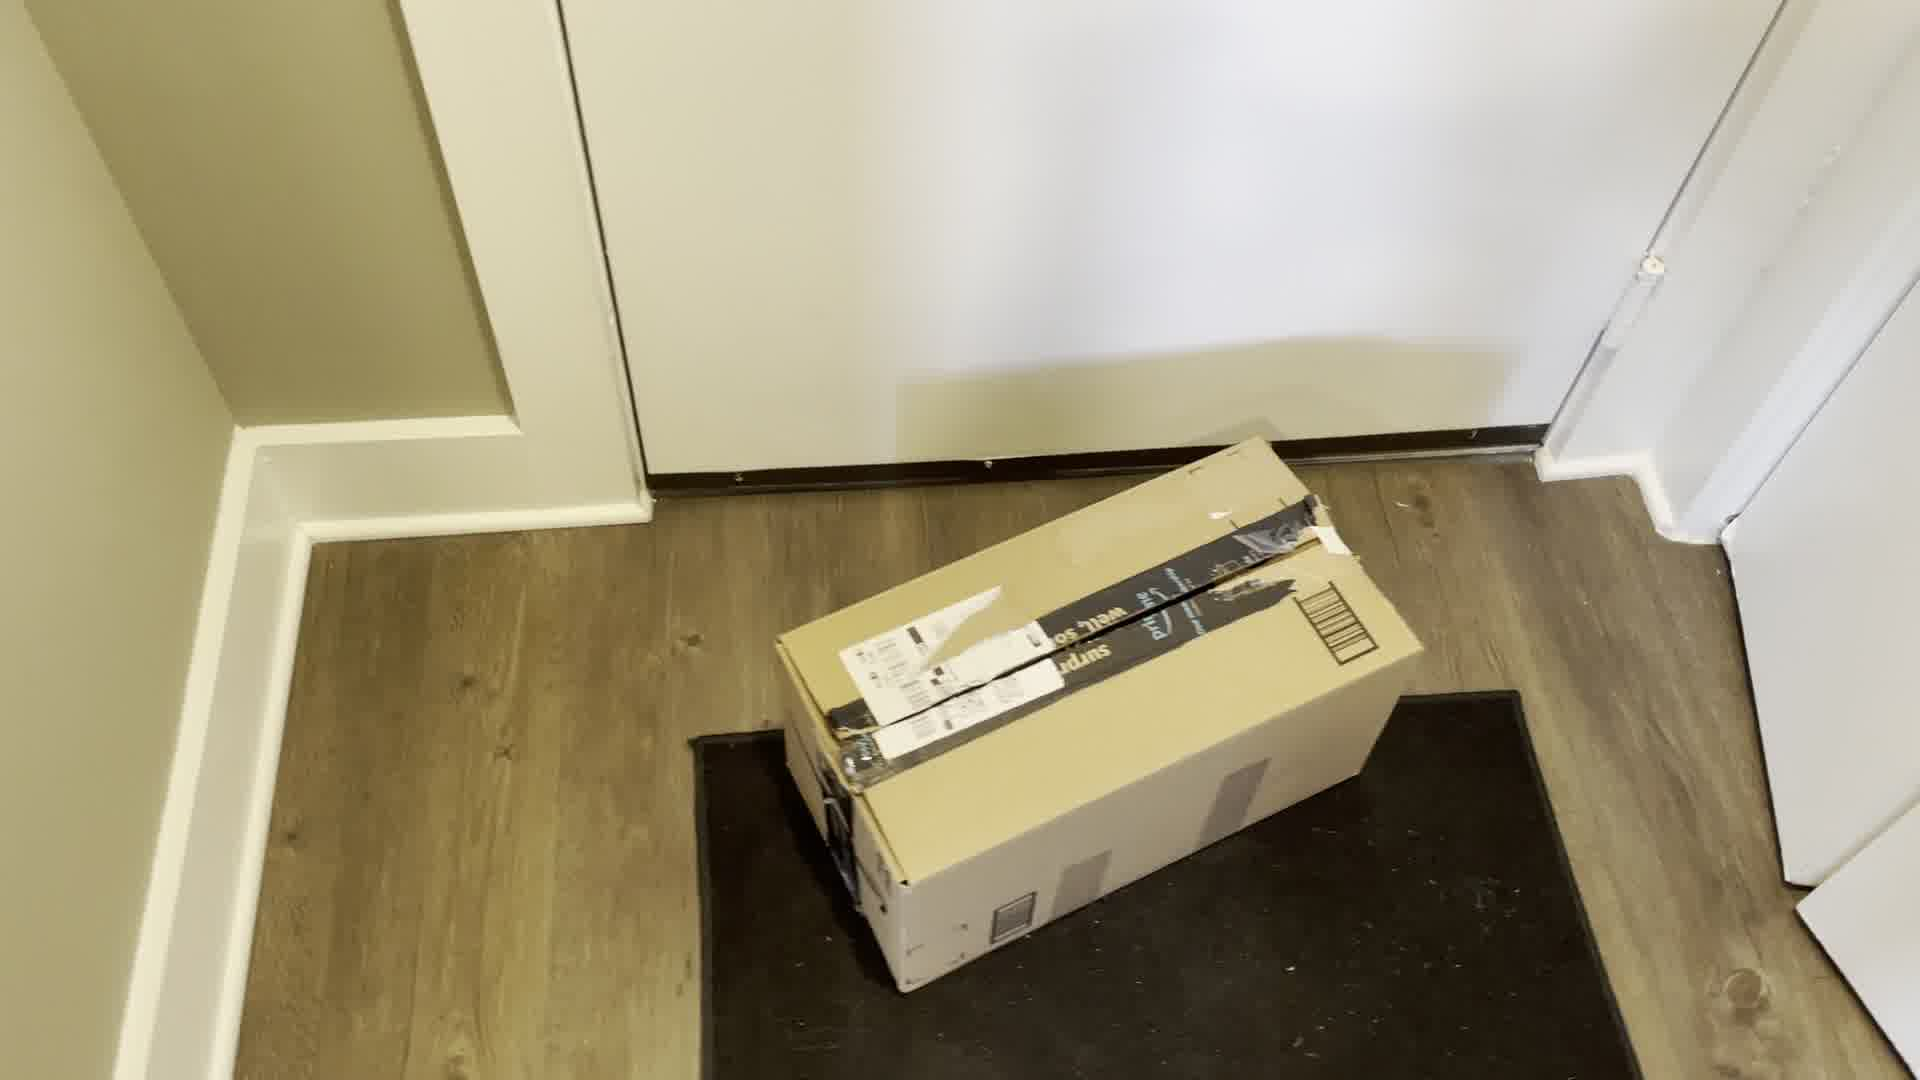box: (692, 447, 1443, 978)
